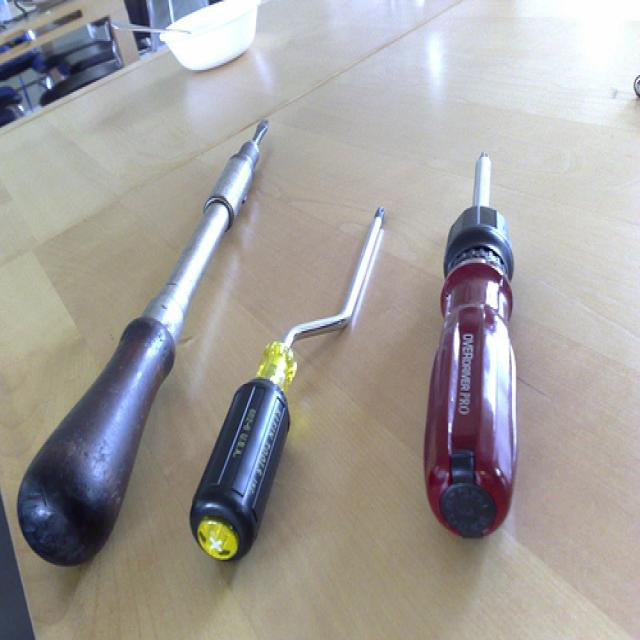screw driver: (407, 133, 608, 562)
